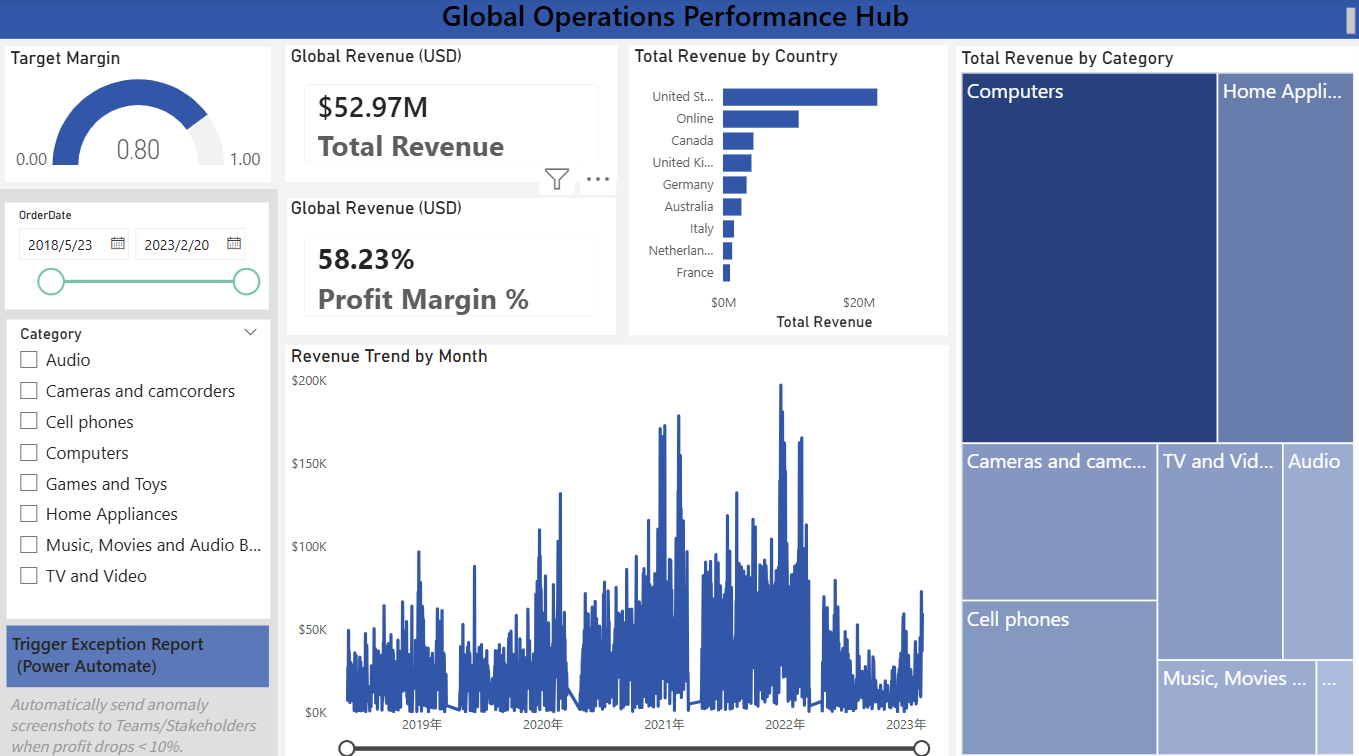

What the dashboard file says about the page in this screenshot:
{"tool":"powerbi","page":{"name":"Executive Overview","canvas":[1280,720],"ordinal":0},"visuals":[{"type":"shape","box":[0,180.2,262,537.5],"z":0},{"type":"cardVisual","title":"Global Revenue (USD)","fields":{"Data":["_Measures.Total Revenue"]},"box":[269.5,45.4,311.9,128.7],"z":1000},{"type":"cardVisual","title":"Global Revenue (USD)","fields":{"Data":["_Measures.Profit Margin %"]},"box":[269.5,187.8,311.9,130.2],"z":2000},{"type":"lineChart","title":"Revenue Trend by Month","fields":{"Y":["_Measures.Total Revenue"],"Category":["Fact_Sales.OrderDate_New"]},"box":[269.5,327.1,622.3,390.7],"z":3000},{"type":"barChart","fields":{"Y":["_Measures.Total Revenue"],"Category":["Dim_Stores.Country"]},"box":[592.1,45.4,299.8,272.6],"z":4000},{"type":"treemap","fields":{"Group":["Dim_Products.Category"],"Values":["_Measures.Total Revenue"]},"box":[899.4,46.9,378.6,670.8],"z":5000},{"type":"slicer","fields":{"Values":["Fact_Sales.OrderDate_New"]},"box":[6.1,193.8,248.3,99.9],"z":6000},{"type":"actionButton","box":[0,0,100,40],"z":7000},{"type":"textbox","box":[0,0,1279.5,39.4],"z":8000},{"type":"slicer","fields":{"Values":["Dim_Products.Category"]},"box":[7.6,302.8,248.3,281.6],"z":9000},{"type":"textbox","box":[5.8,649,248.4,71.3],"z":10000},{"type":"textbox","box":[7.7,591.2,246.5,57.8],"z":11000},{"type":"gauge","fields":{"Y":["_Measures.Target Margin"]},"box":[6.1,46.9,249.8,127.2],"z":12000}]}

Visuals, with their boxes in screenshot pixels (x1, y1, x2, y2), scaled from the page's 1280x720 canvas onto the 1359x756 screenshot:
shape: box=[0, 189, 278, 754]
"Global Revenue (USD)" cardVisual: box=[286, 48, 617, 183]
"Global Revenue (USD)" cardVisual: box=[286, 197, 617, 334]
"Revenue Trend by Month" lineChart: box=[286, 343, 947, 754]
barChart - _Measures.Total Revenue x Dim_Stores.Country: box=[629, 48, 947, 334]
treemap - Dim_Products.Category x _Measures.Total Revenue: box=[955, 49, 1357, 754]
slicer - Fact_Sales.OrderDate_New: box=[6, 203, 270, 308]
actionButton: box=[0, 0, 106, 42]
textbox: box=[0, 0, 1358, 41]
slicer - Dim_Products.Category: box=[8, 318, 272, 614]
textbox: box=[6, 681, 270, 755]
textbox: box=[8, 621, 270, 681]
gauge - _Measures.Target Margin: box=[6, 49, 272, 183]
